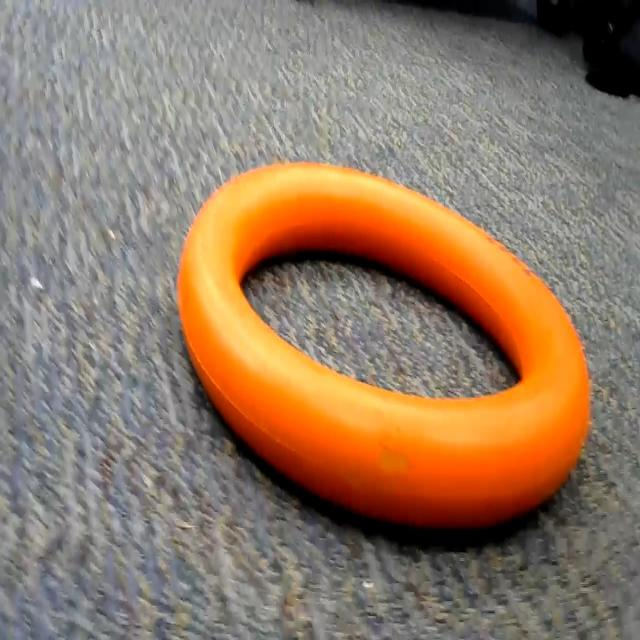note: (177, 142, 603, 559)
